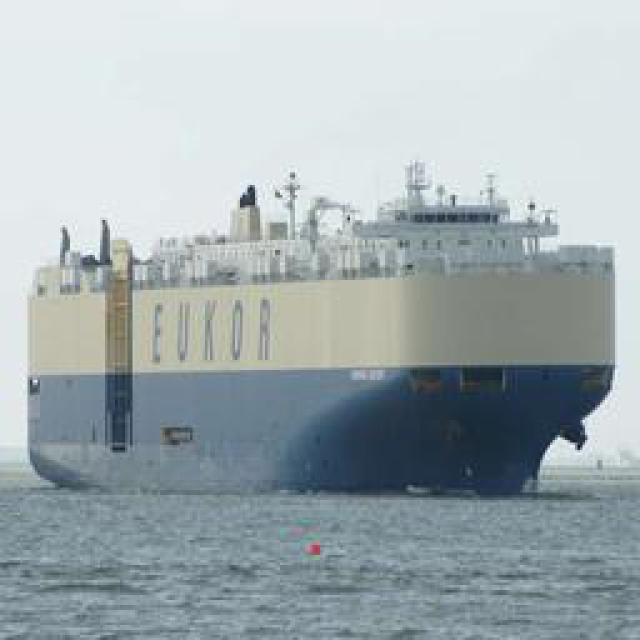Ship: (25, 176, 625, 504)
